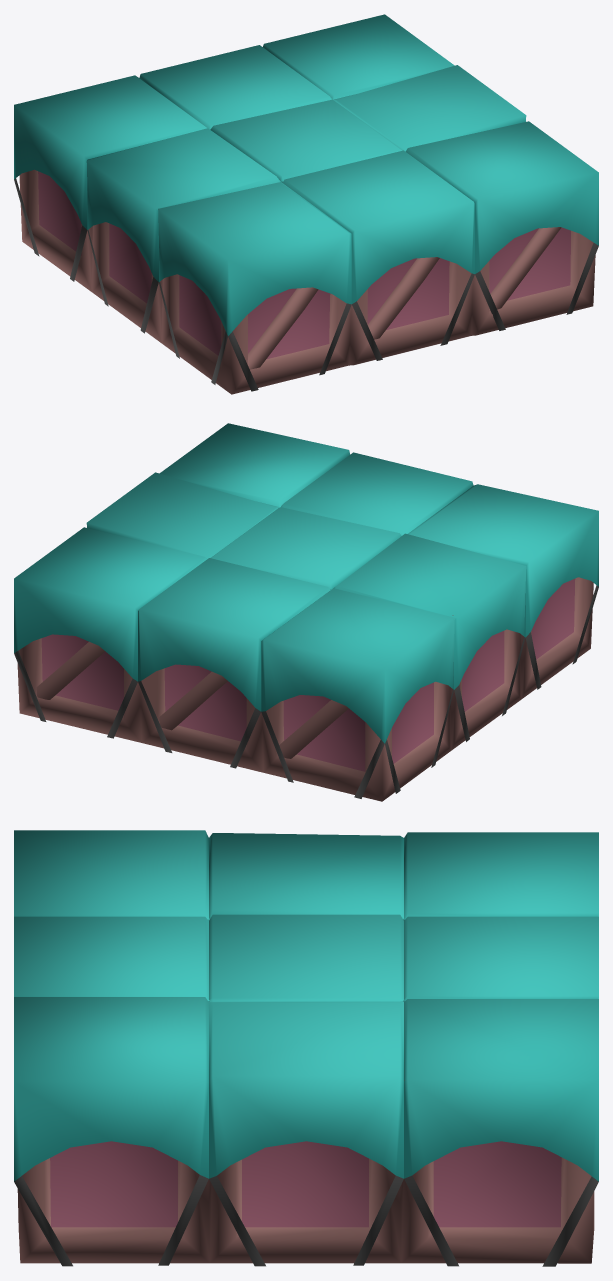
Rendered from obstacle-crate_platform_H1W2.glb.
3 views of the same model, one above another, from view 1: azimuth 30°, elevation 25°; view 2: azimuth 150°, elevation 25°; view 3: azimuth 270°, elevation 25° (orthographic). The views are drawn at different scales.
Visible parts, largest first — view 1: obstacle-crate_platform_H1W2; view 2: obstacle-crate_platform_H1W2; view 3: obstacle-crate_platform_H1W2.
Part boxes in pixels (bbox=[...]): obstacle-crate_platform_H1W2: bbox=[14, 14, 598, 394]; obstacle-crate_platform_H1W2: bbox=[14, 423, 598, 801]; obstacle-crate_platform_H1W2: bbox=[14, 830, 598, 1266].
Bounding box in the file's own units: 6 × 2.17 × 6.
